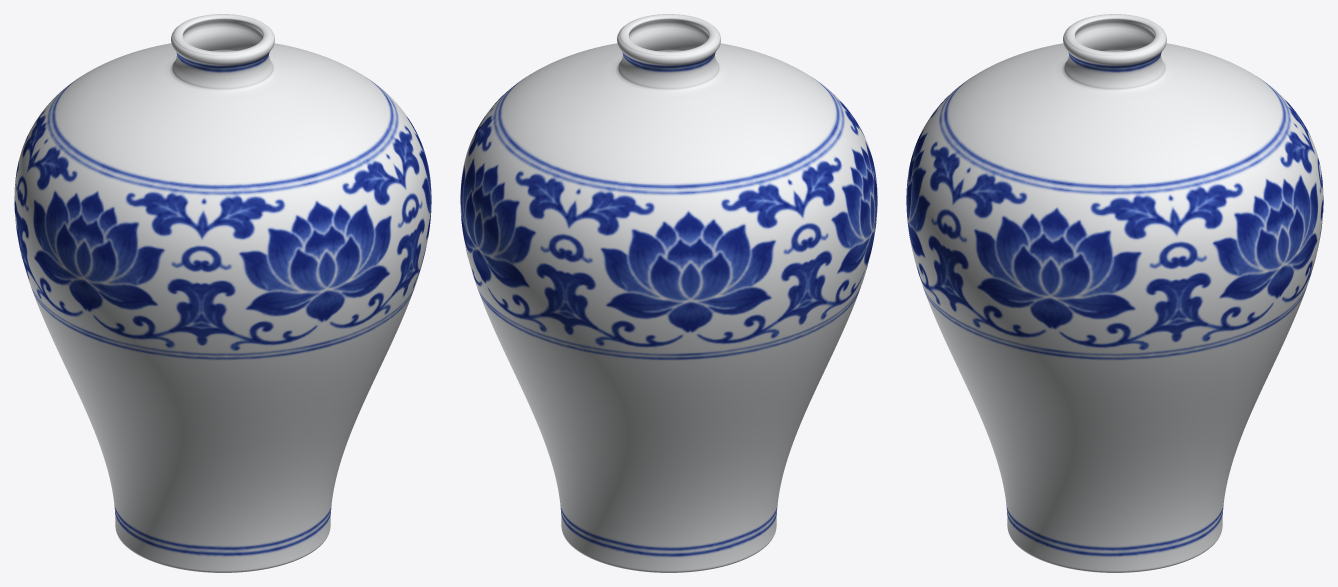
The model's file is 02_blue_white_vase.fbx.
The picture shows the model from 3 angles, left to right: view 1: azimuth 30°, elevation 25°; view 2: azimuth 150°, elevation 25°; view 3: azimuth 270°, elevation 25°; orthographic projection.
Visible parts, largest first — view 1: BlueWhiteVase; view 2: BlueWhiteVase; view 3: BlueWhiteVase.
Part boxes in pixels (x1,y1,x2,y2): BlueWhiteVase: [14, 14, 431, 572]; BlueWhiteVase: [460, 14, 877, 572]; BlueWhiteVase: [906, 14, 1323, 572].
Bounding box in the file's own units: 0.2675 × 0.3502 × 0.2675.
Materials: 1 (1 with a texture image).
